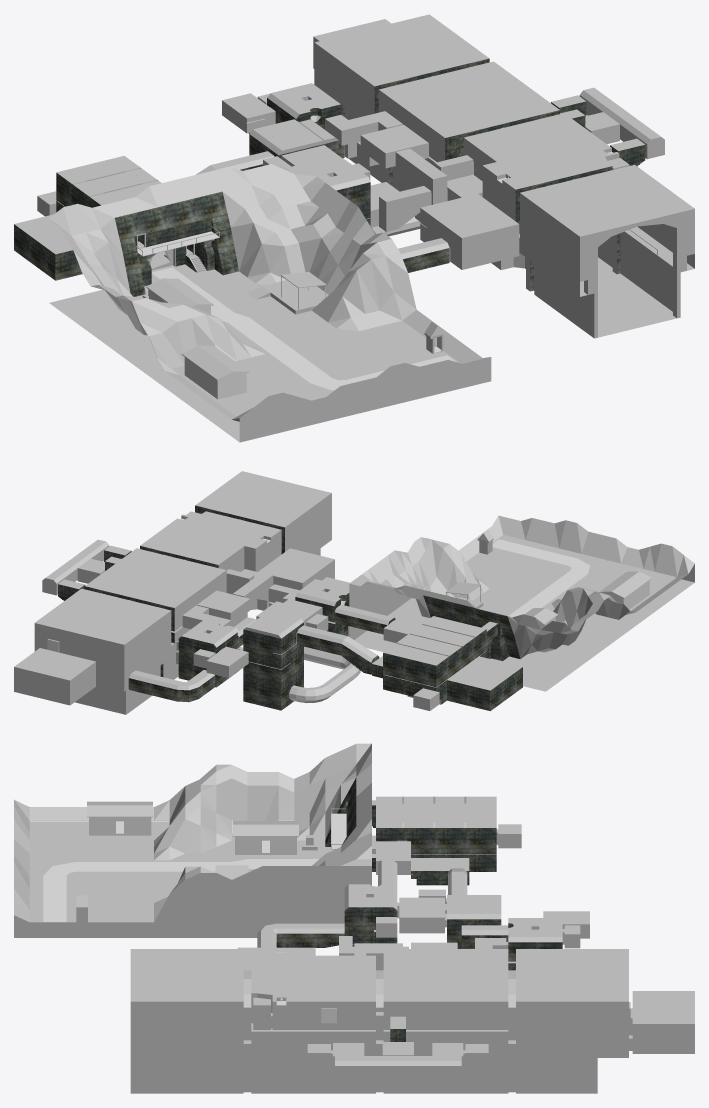
File: DasBoot.dae
The picture shows the model from 3 angles, top to bottom: view 1: azimuth 30°, elevation 25°; view 2: azimuth 150°, elevation 25°; view 3: azimuth 270°, elevation 25°; orthographic projection. The views are drawn at different scales.
Visible parts, largest first — view 1: DasBoot; view 2: DasBoot; view 3: DasBoot.
Part boxes in pixels (box(x1,y1,x2,y2)): DasBoot: box(14, 14, 694, 442); DasBoot: box(14, 471, 694, 714); DasBoot: box(14, 743, 694, 1093).
Size of the model in its own units: 103 by 109 by 22.36.
